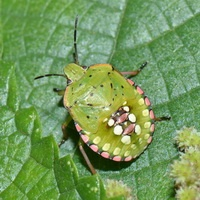insect: (35, 20, 168, 160)
